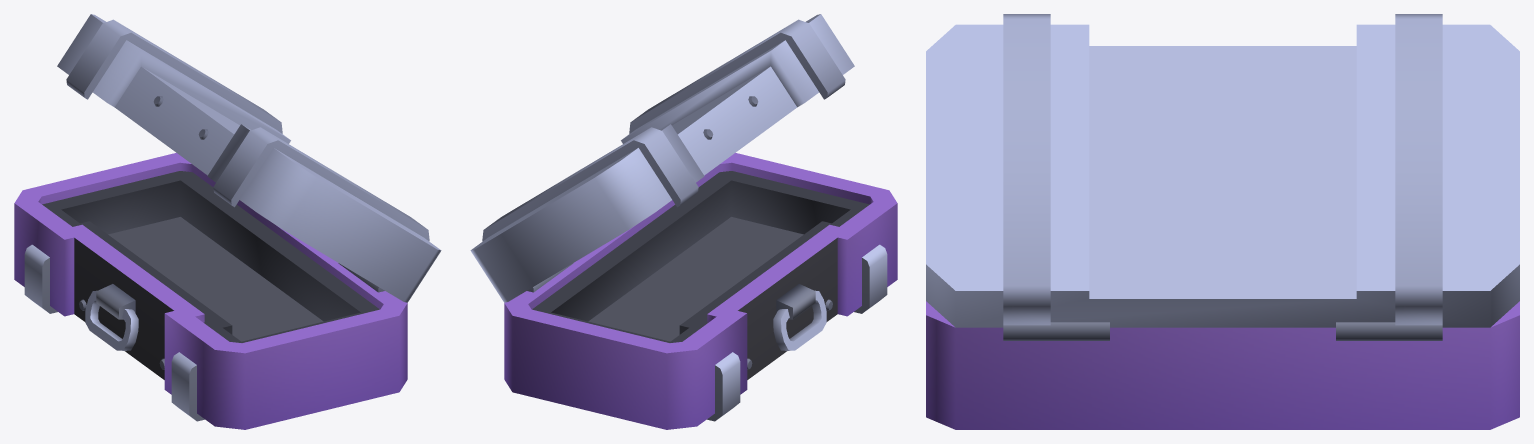
The model's file is crate.fbx.
3 views of the same model, side by side, from view 1: azimuth 30°, elevation 25°; view 2: azimuth 150°, elevation 25°; view 3: azimuth 270°, elevation 25° (orthographic). The views are drawn at different scales.
Parts seen in each view (by area): view 1: crate-medium.001, lid.001; view 2: crate-medium.001, lid.001; view 3: lid.001, crate-medium.001.
Boxes of the visible parts, bbox=[...] form: crate-medium.001: bbox=[14, 153, 407, 429]; lid.001: bbox=[57, 14, 441, 302]; crate-medium.001: bbox=[504, 153, 897, 429]; lid.001: bbox=[470, 14, 854, 302]; lid.001: bbox=[926, 14, 1519, 327]; crate-medium.001: bbox=[926, 301, 1519, 429].
Bounding box in the file's own units: 0.6328 × 0.648 × 1.
Materials: 1 (1 with a texture image).
